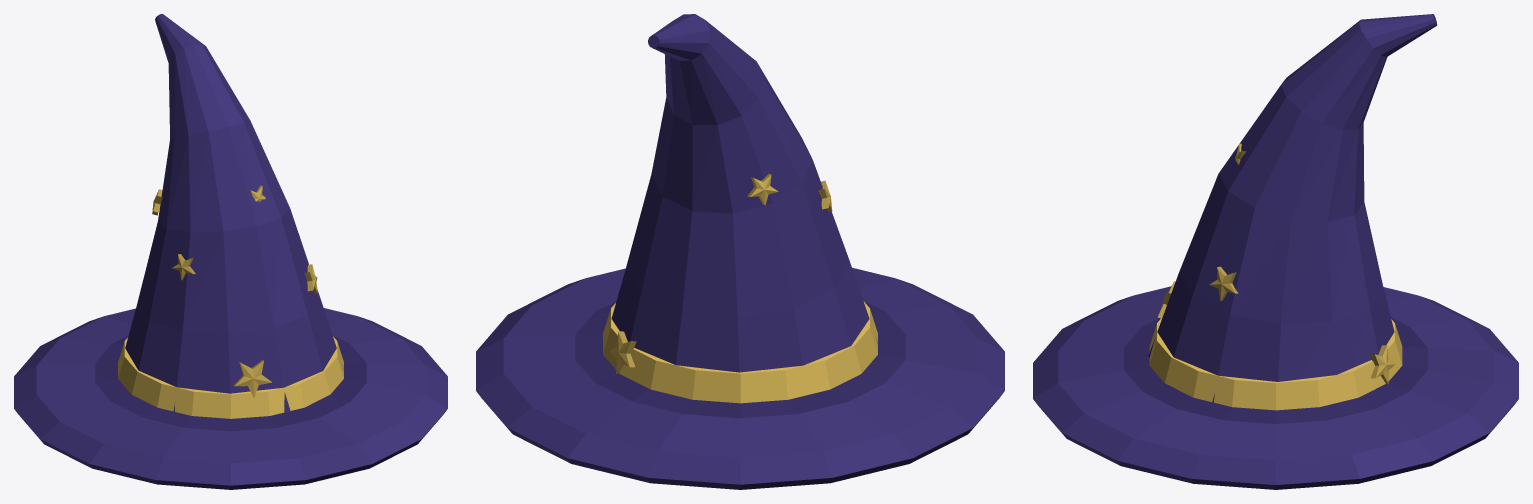
The model's file is wear_wizard_hat.glb.
The picture shows the model from 3 angles, left to right: view 1: azimuth 30°, elevation 25°; view 2: azimuth 150°, elevation 25°; view 3: azimuth 270°, elevation 25°; orthographic projection. The views are drawn at different scales.
Visible parts, largest first — view 1: wear_wizard_hat; view 2: wear_wizard_hat; view 3: wear_wizard_hat.
Part boxes in pixels (<box>): wear_wizard_hat: <box>14,14,447,489</box>; wear_wizard_hat: <box>476,14,1004,489</box>; wear_wizard_hat: <box>1033,14,1518,489</box>.
Bounding box in the file's own units: 0.96 × 0.8014 × 0.9454.
